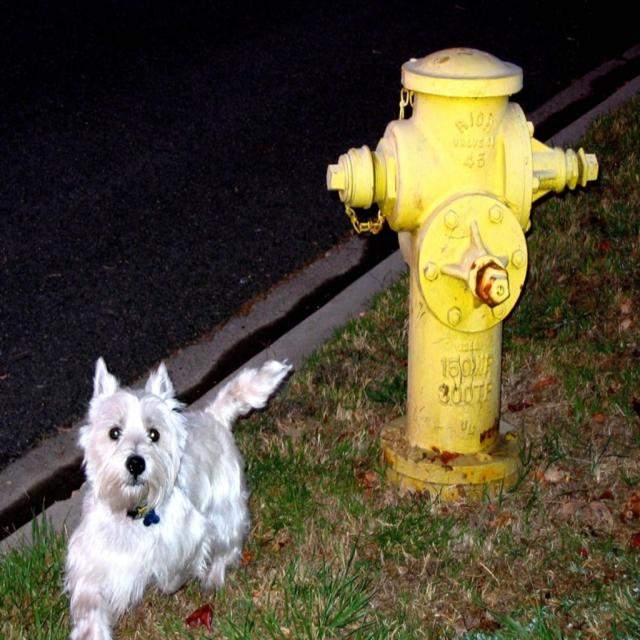fire_hydrant: (324, 46, 602, 506)
